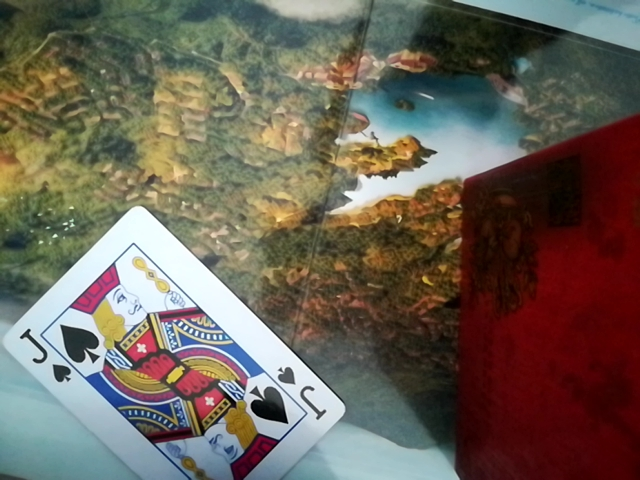ht j: (0, 204, 344, 476)
